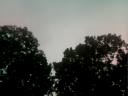window: (1, 0, 49, 96), (61, 35, 94, 65), (60, 0, 83, 9), (117, 43, 128, 57), (115, 13, 122, 20)
